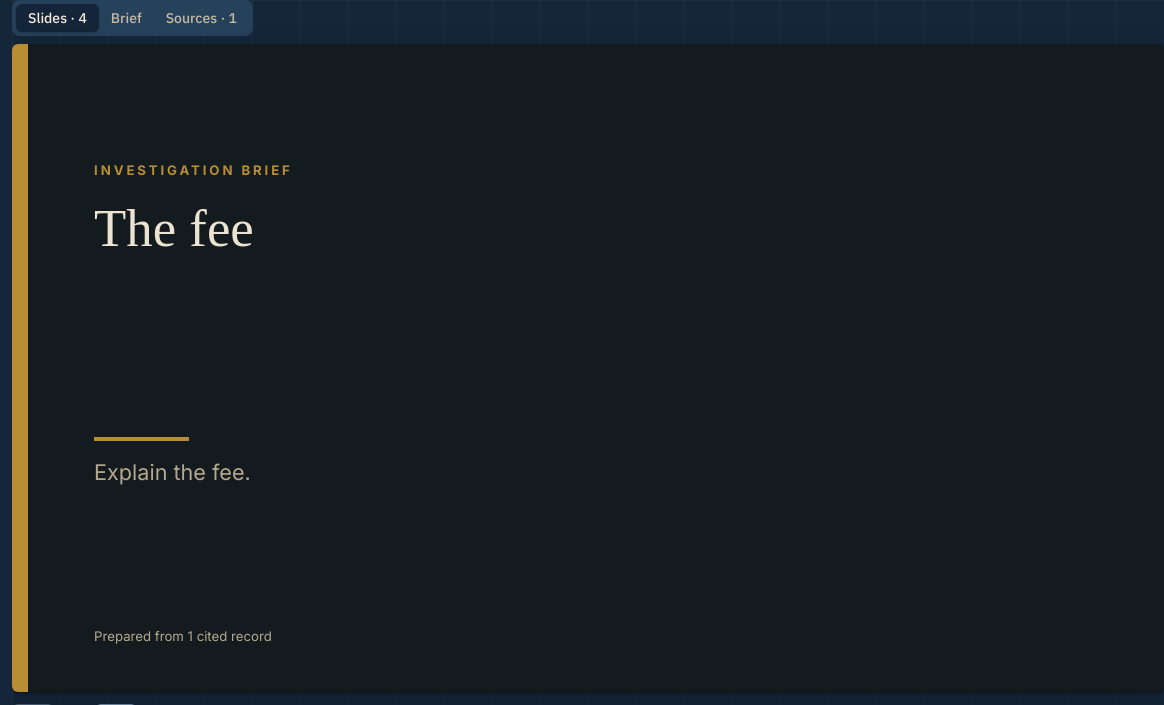
Test: DraftPreview › lists each key point with the words the quote check found in its record
Click the tab "Brief" at (126, 18), box 99,4 -> 154,32
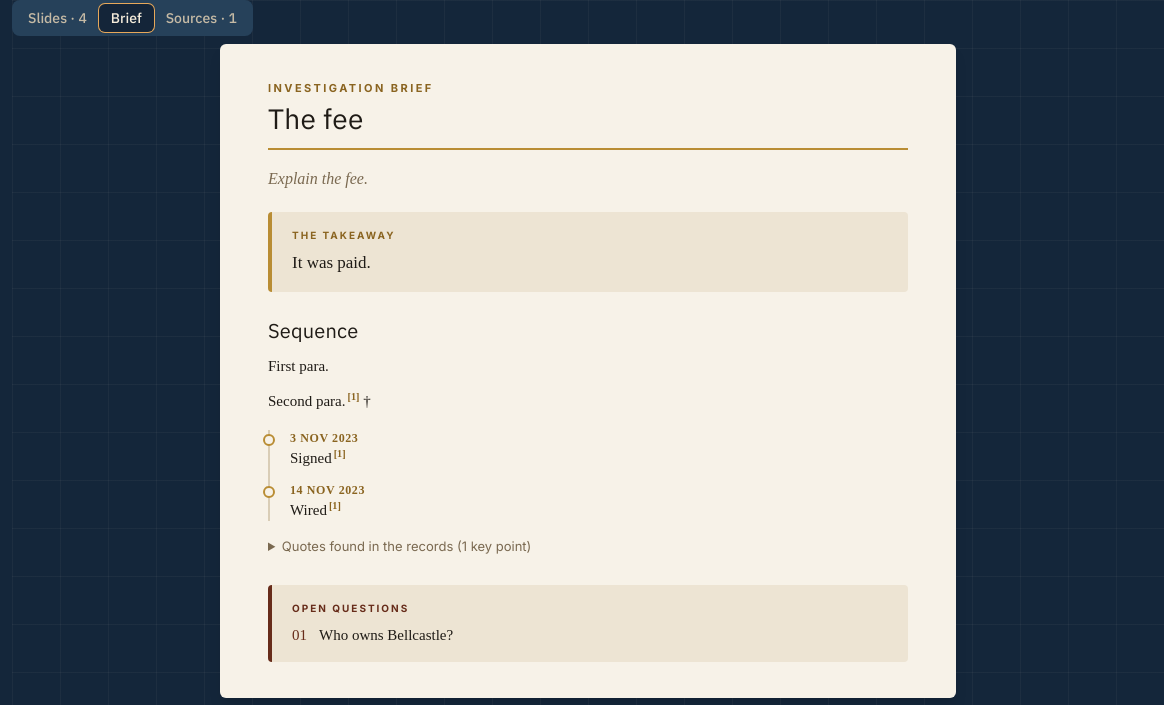
expect the element with test id "checked-quotes" reads "Quotes found in the records (1 key point)": met, box 282,538 -> 531,554
